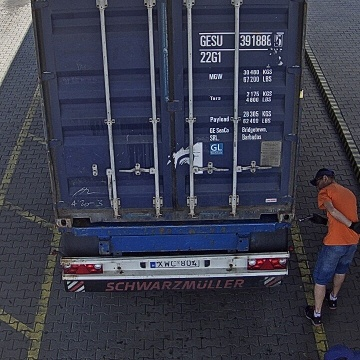serial_id: (200, 34, 282, 46)
